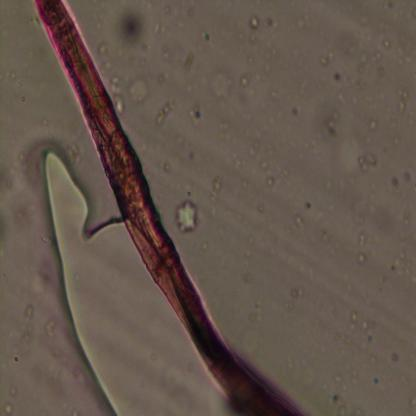Air bubble: (39, 142, 207, 415)
Background material: (305, 98, 343, 148), (338, 299, 371, 347), (3, 152, 38, 192), (116, 2, 147, 47), (318, 374, 349, 415), (381, 247, 415, 281), (172, 201, 200, 234), (109, 68, 126, 113), (127, 76, 150, 107), (208, 79, 235, 103), (349, 232, 365, 272), (392, 80, 411, 112), (157, 95, 176, 124), (20, 307, 34, 346), (215, 121, 239, 141), (258, 9, 280, 30), (212, 171, 221, 216), (374, 34, 396, 51), (189, 102, 202, 127), (359, 153, 376, 172), (40, 316, 56, 336), (96, 36, 109, 59), (360, 120, 381, 134), (150, 20, 168, 36), (319, 54, 334, 73), (290, 211, 304, 231), (184, 52, 196, 71), (403, 169, 416, 184), (387, 352, 402, 364), (289, 291, 304, 303), (159, 164, 177, 174), (258, 160, 270, 174), (390, 174, 400, 190), (330, 70, 342, 83), (238, 74, 250, 86), (249, 16, 259, 30), (4, 401, 14, 415), (264, 179, 275, 188), (9, 69, 16, 81), (202, 32, 211, 40)
Cotton: (33, 0, 306, 416)
